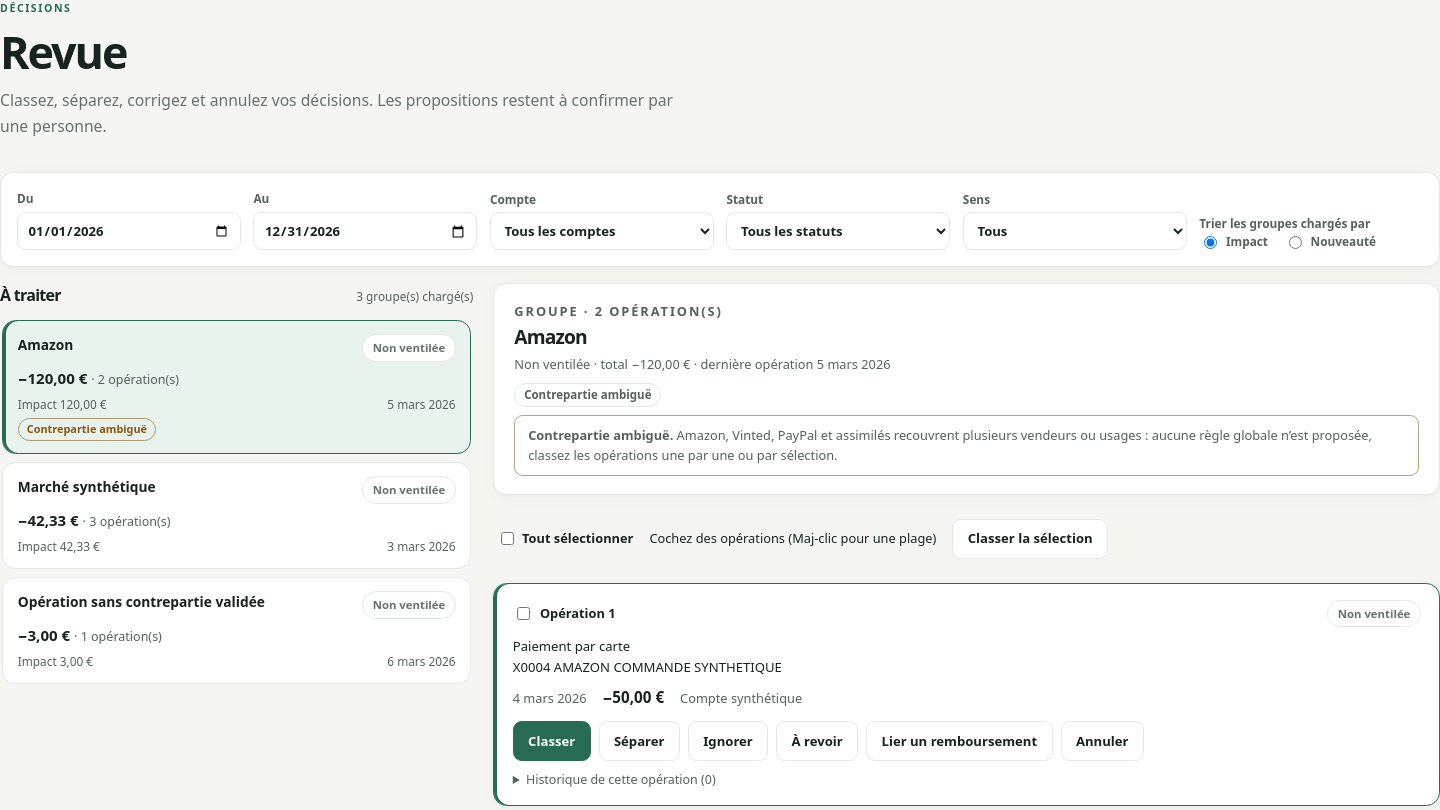
Test: UI-REVIEW-04 · portée explicite et marchands ambigus › désactive la portée sélection tant que deux opérations ne sont pas cochées
The image size is (1440, 810).
Expected: the list that starts with "Amazon" is shown, [0,318,473,686]
Click the option "Marché synthétique" at (87,487), box [2,462,471,569]
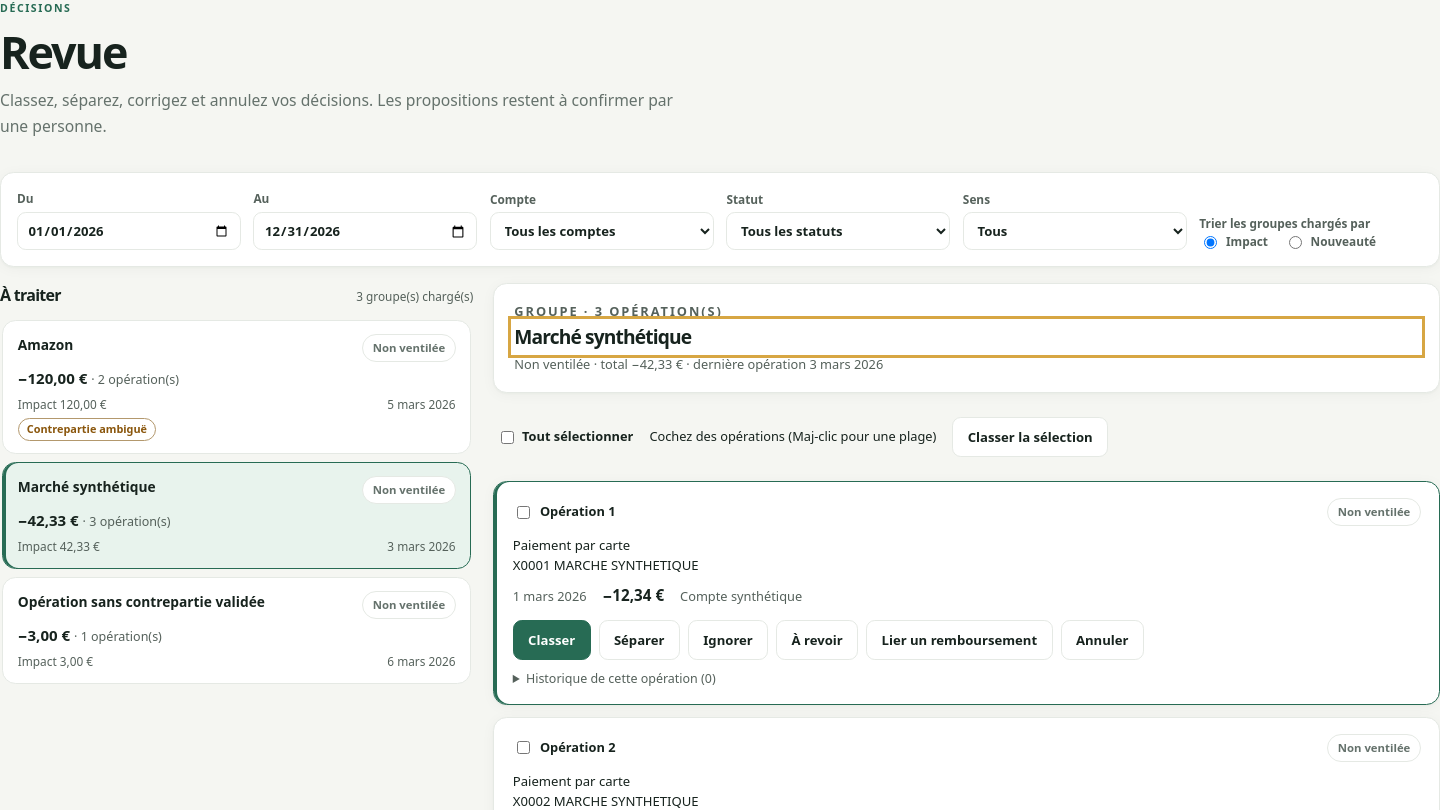
Click the button "Classer" at (552,640), box [513,620,590,660]
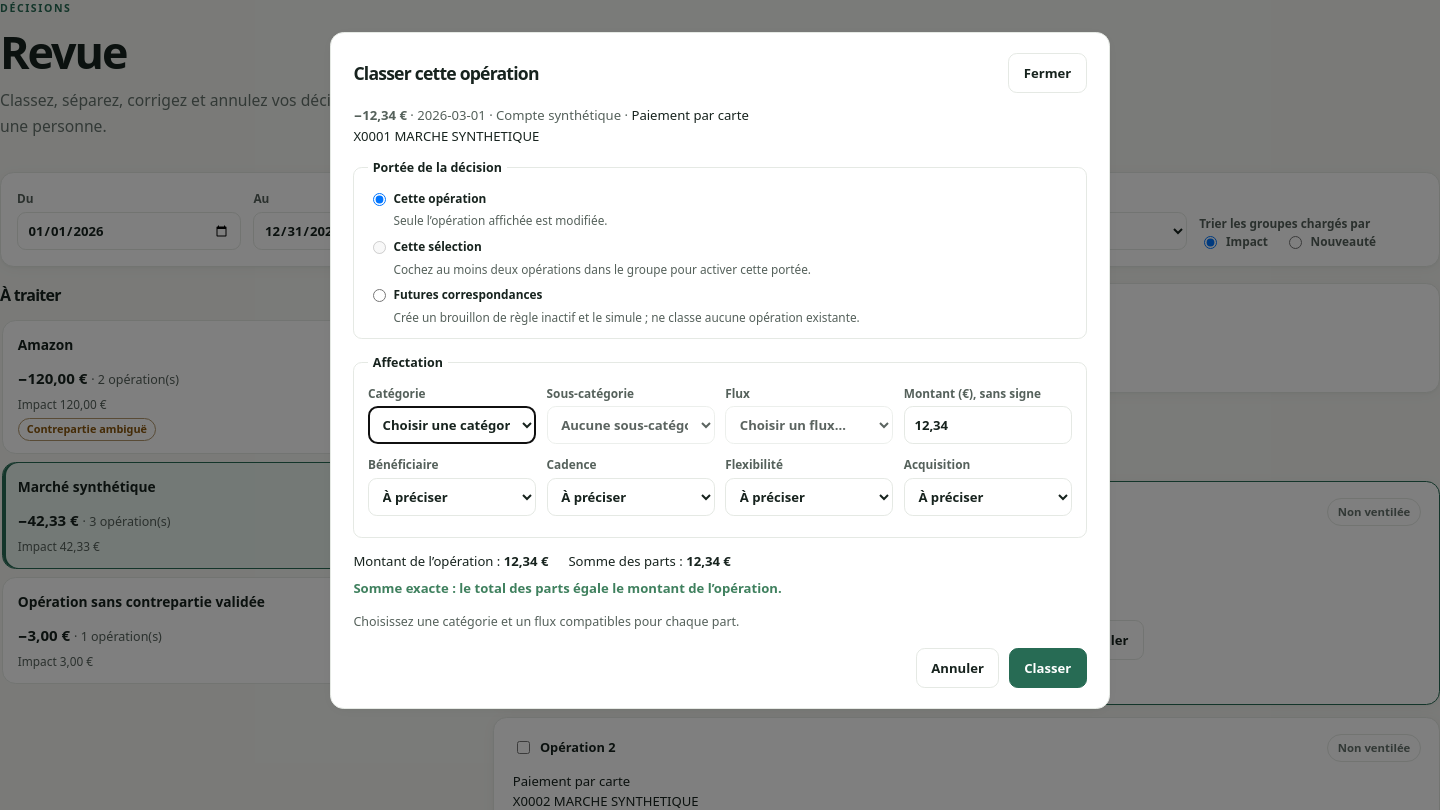
Now the radio button labelled "Cette sélection" is disabled, box [373,241,386,254]
